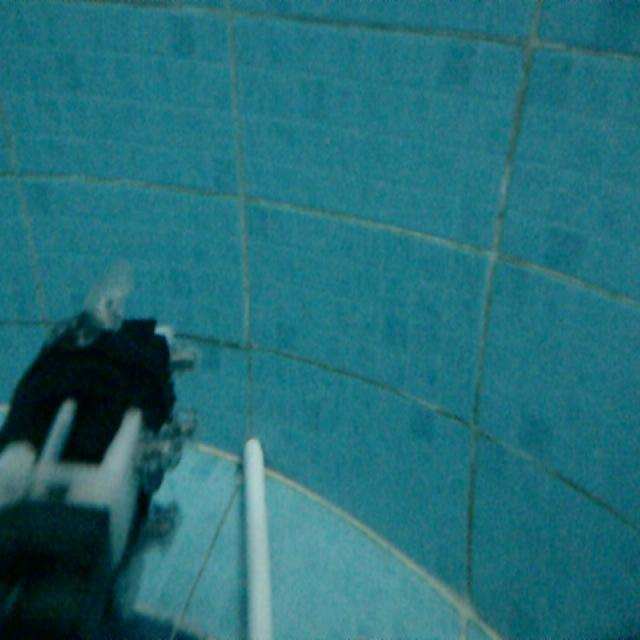Cube: (237, 431, 278, 638)
